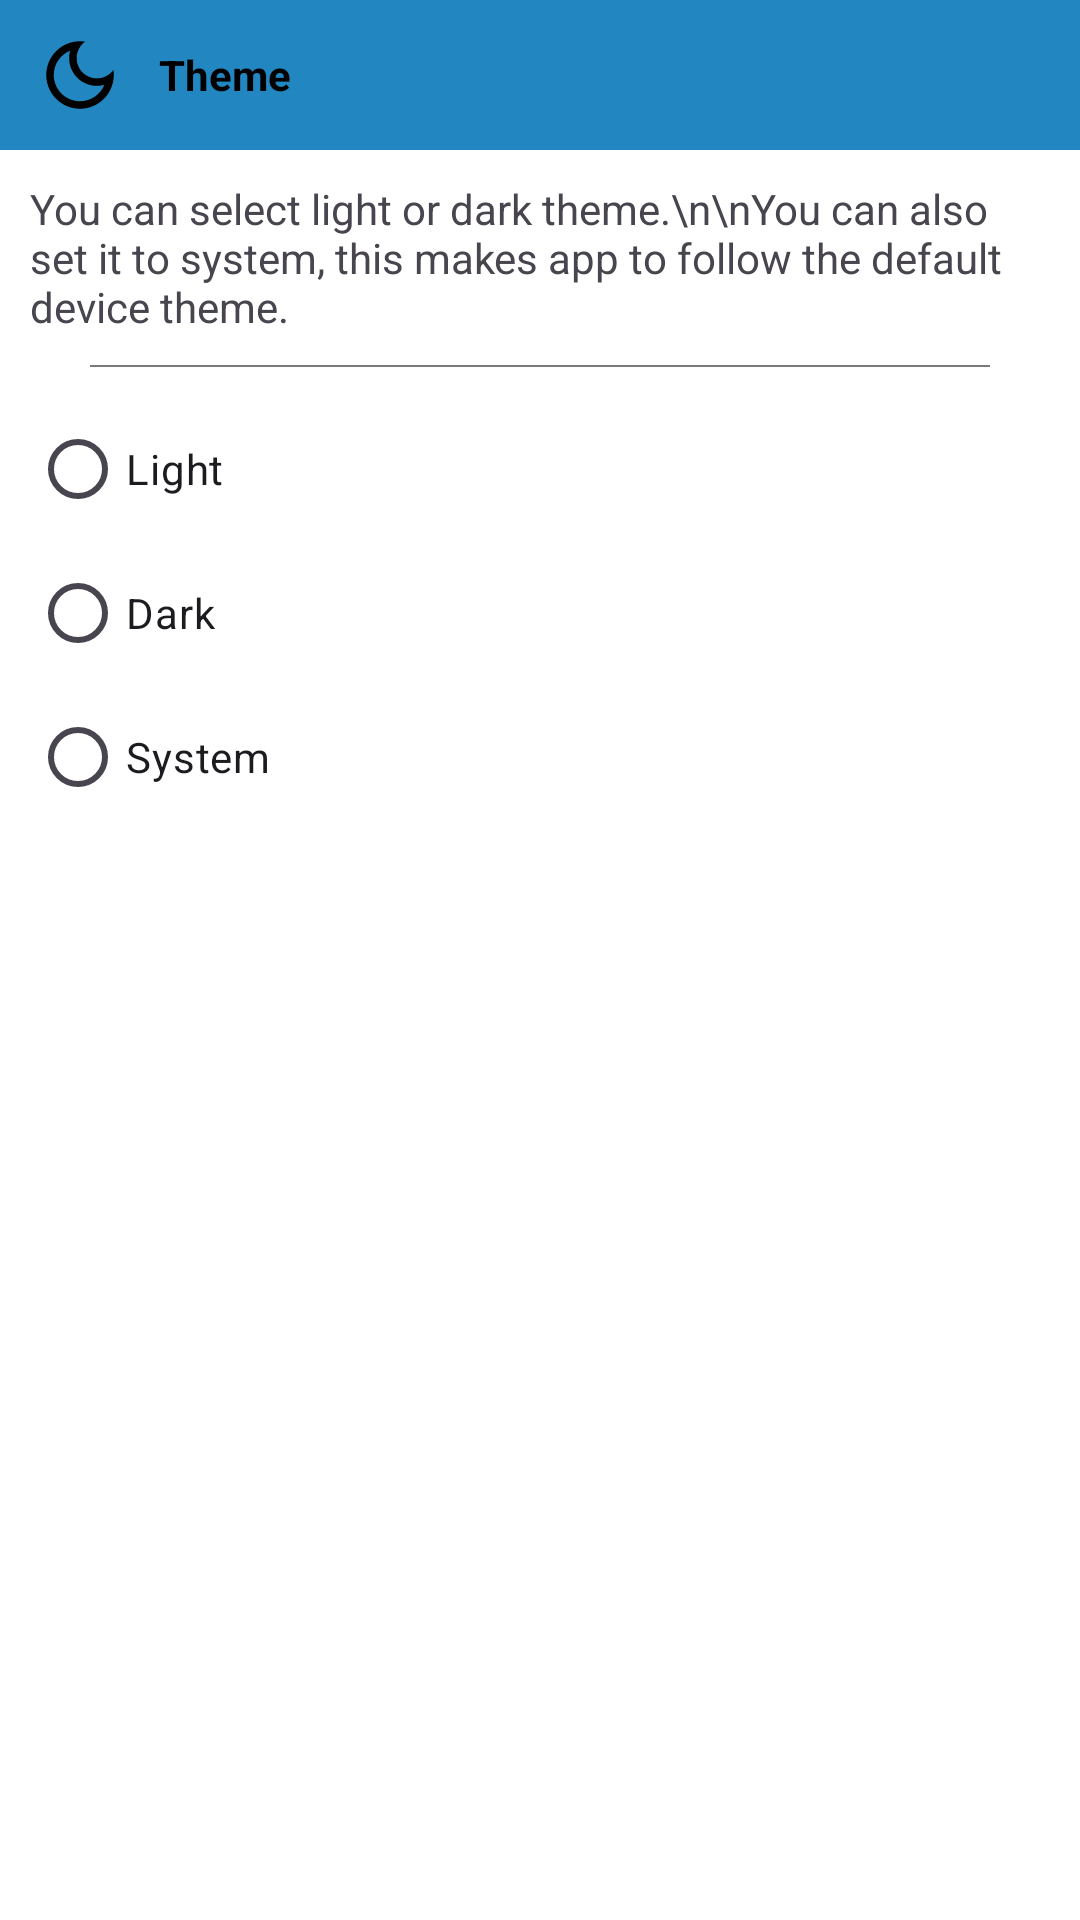

Locate icon controls on the screen. Image size 1080 × 1920, boxes as Rect(x1, y1, x2, y2).
mode: Rect(46, 41, 114, 109)
